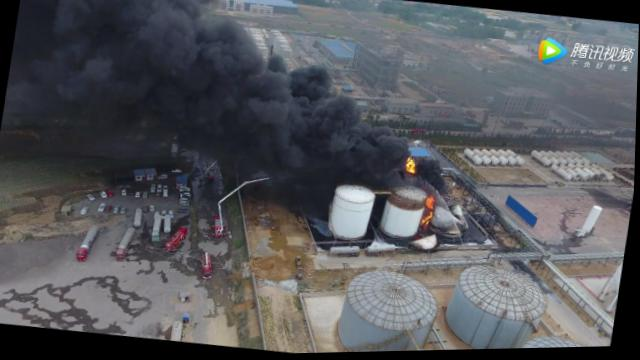fire: (405, 158, 418, 173), (421, 212, 433, 227), (426, 197, 436, 209)
